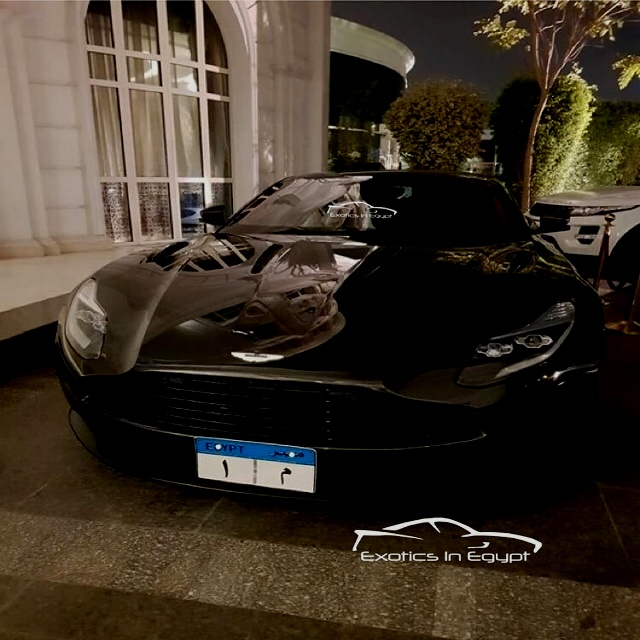License Plate: (189, 433, 321, 496)
